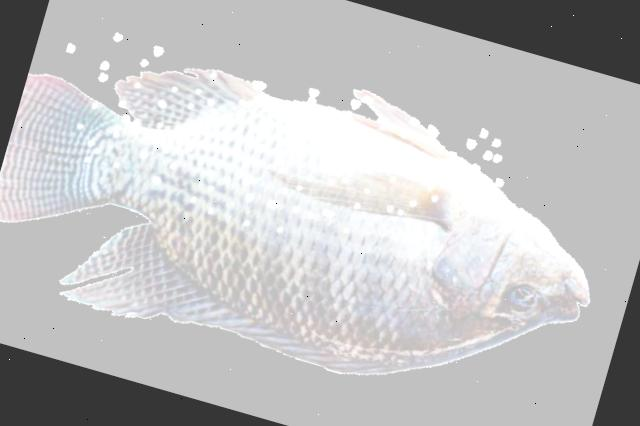Ichthyophthirius -White Spots-: (0, 67, 589, 373), (0, 67, 589, 373), (0, 67, 589, 373)
